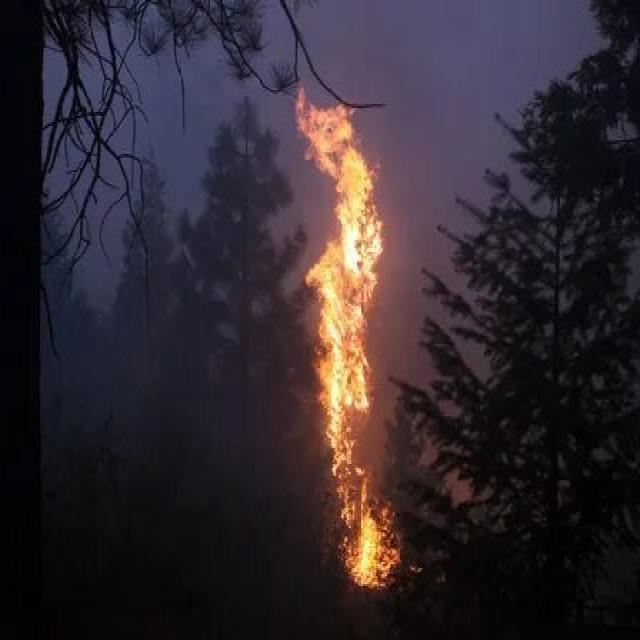Fire: (284, 97, 422, 607)
